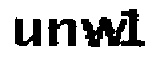1: (121, 7, 146, 52)
n: (46, 17, 78, 51)
u: (9, 17, 43, 50)
w: (79, 17, 127, 52)
